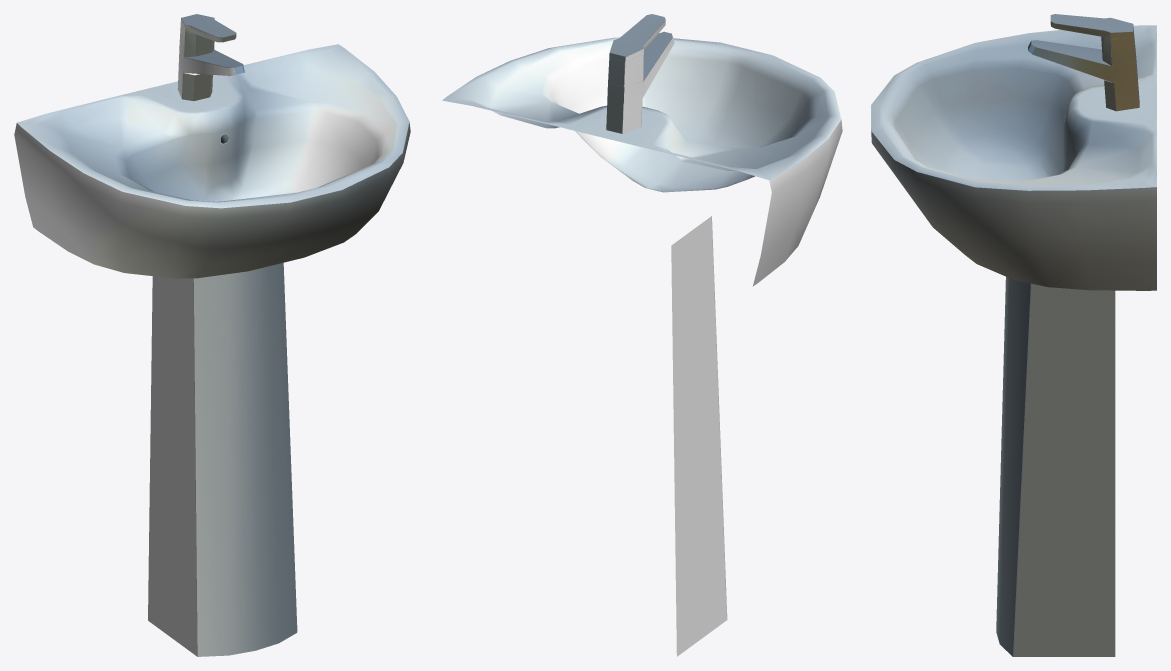
3 views of the same model, side by side, from view 1: azimuth 30°, elevation 25°; view 2: azimuth 150°, elevation 25°; view 3: azimuth 270°, elevation 25° (orthographic). The views are drawn at different scales.
Visible parts, largest first — view 1: 1009_17519; view 2: 1009_17519; view 3: 1009_17519.
Boxes of the visible parts, <box> form: 1009_17519: <box>14,14,410,656</box>; 1009_17519: <box>442,14,842,656</box>; 1009_17519: <box>871,14,1156,656</box>.
Bounding box in the file's own units: 0.5541 × 0.9604 × 0.4054.
Materials: 1 (1 with a texture image).
